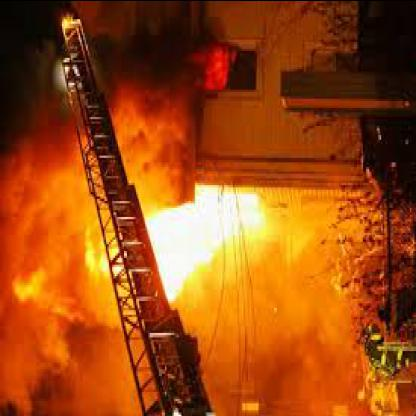Fire: (162, 206, 241, 274)
Smoke: (214, 276, 330, 388), (122, 48, 190, 148), (11, 145, 65, 237)
